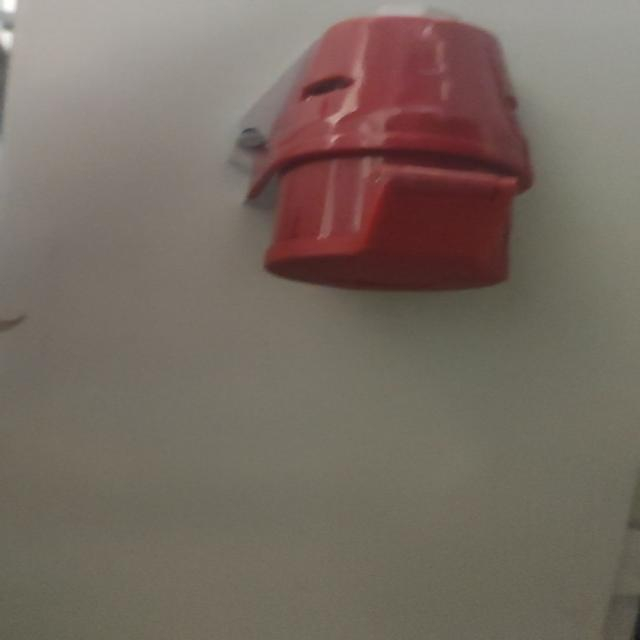400v socket down: (241, 4, 535, 293)
